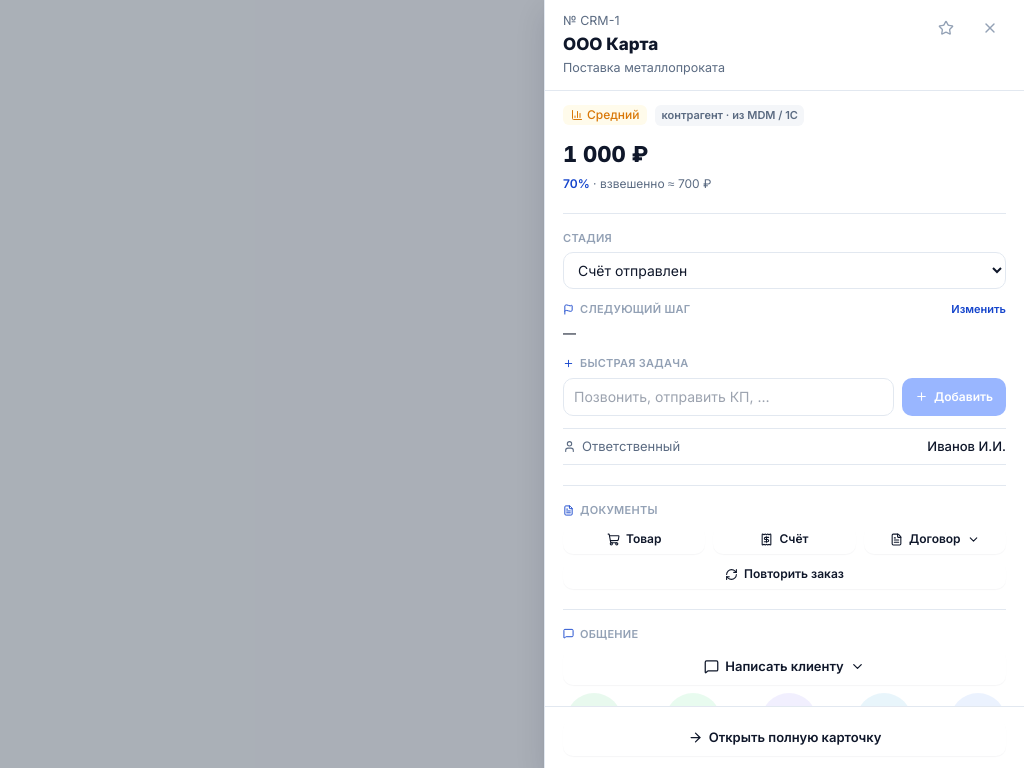
it: DealDrawerPreview — слайс 6 (A): авто-шаг после счёта › неуспешный счёт (ok=false) — updateDeal НЕ вызван
Click the button "Счёт" at x=784, y=539, box [713,524,856,554]
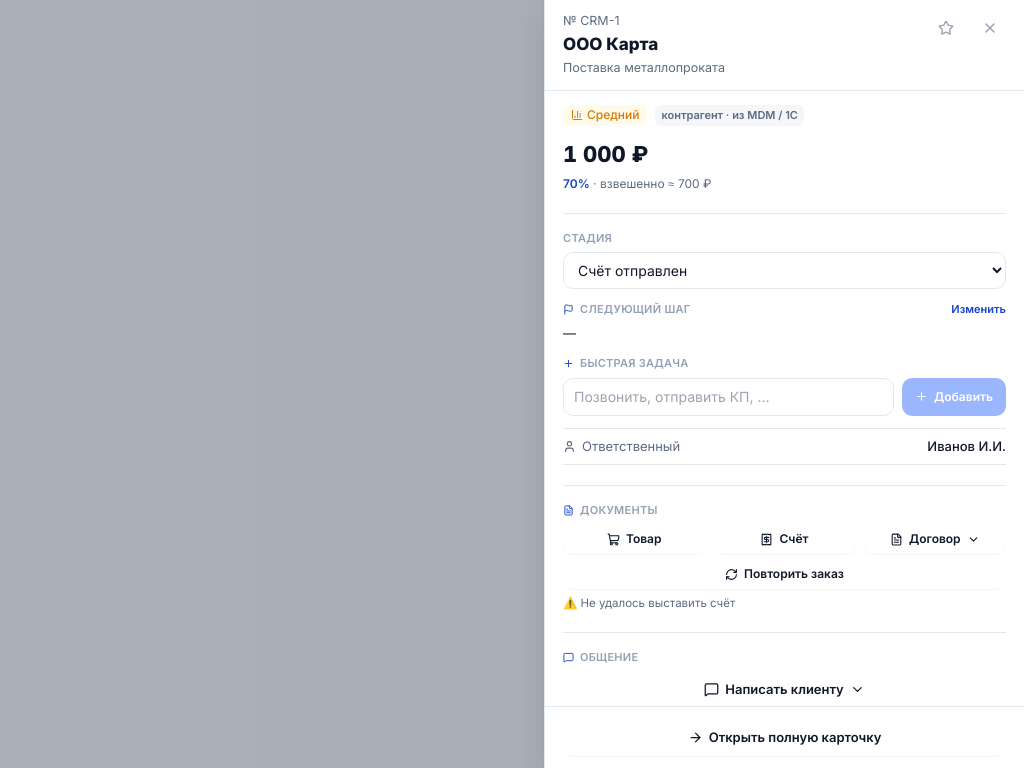
Result: the text "⚠️ Не удалось выставить счёт" is shown at [563,596,735,610]
